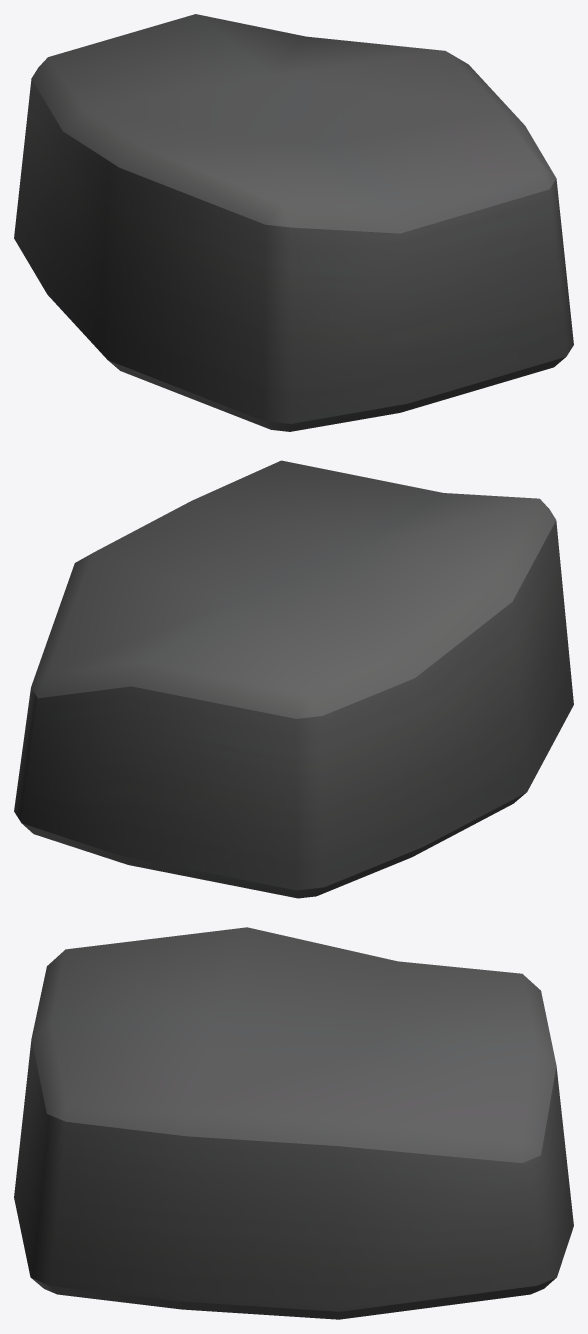
Rendered from StoneBlock_4_1.glb.
The picture shows the model from 3 angles, top to bottom: view 1: azimuth 30°, elevation 25°; view 2: azimuth 150°, elevation 25°; view 3: azimuth 270°, elevation 25°; orthographic projection. The views are drawn at different scales.
Visible parts, largest first — view 1: StoneBlock_4_1; view 2: StoneBlock_4_1; view 3: StoneBlock_4_1.
Boxes of the visible parts, x1,y1,x2,y2 form: StoneBlock_4_1: [14, 14, 573, 431]; StoneBlock_4_1: [14, 460, 573, 898]; StoneBlock_4_1: [14, 927, 573, 1319].
Size of the model in its own units: 0.6684 by 0.3345 by 0.7902.
1 material, 1 textured.
